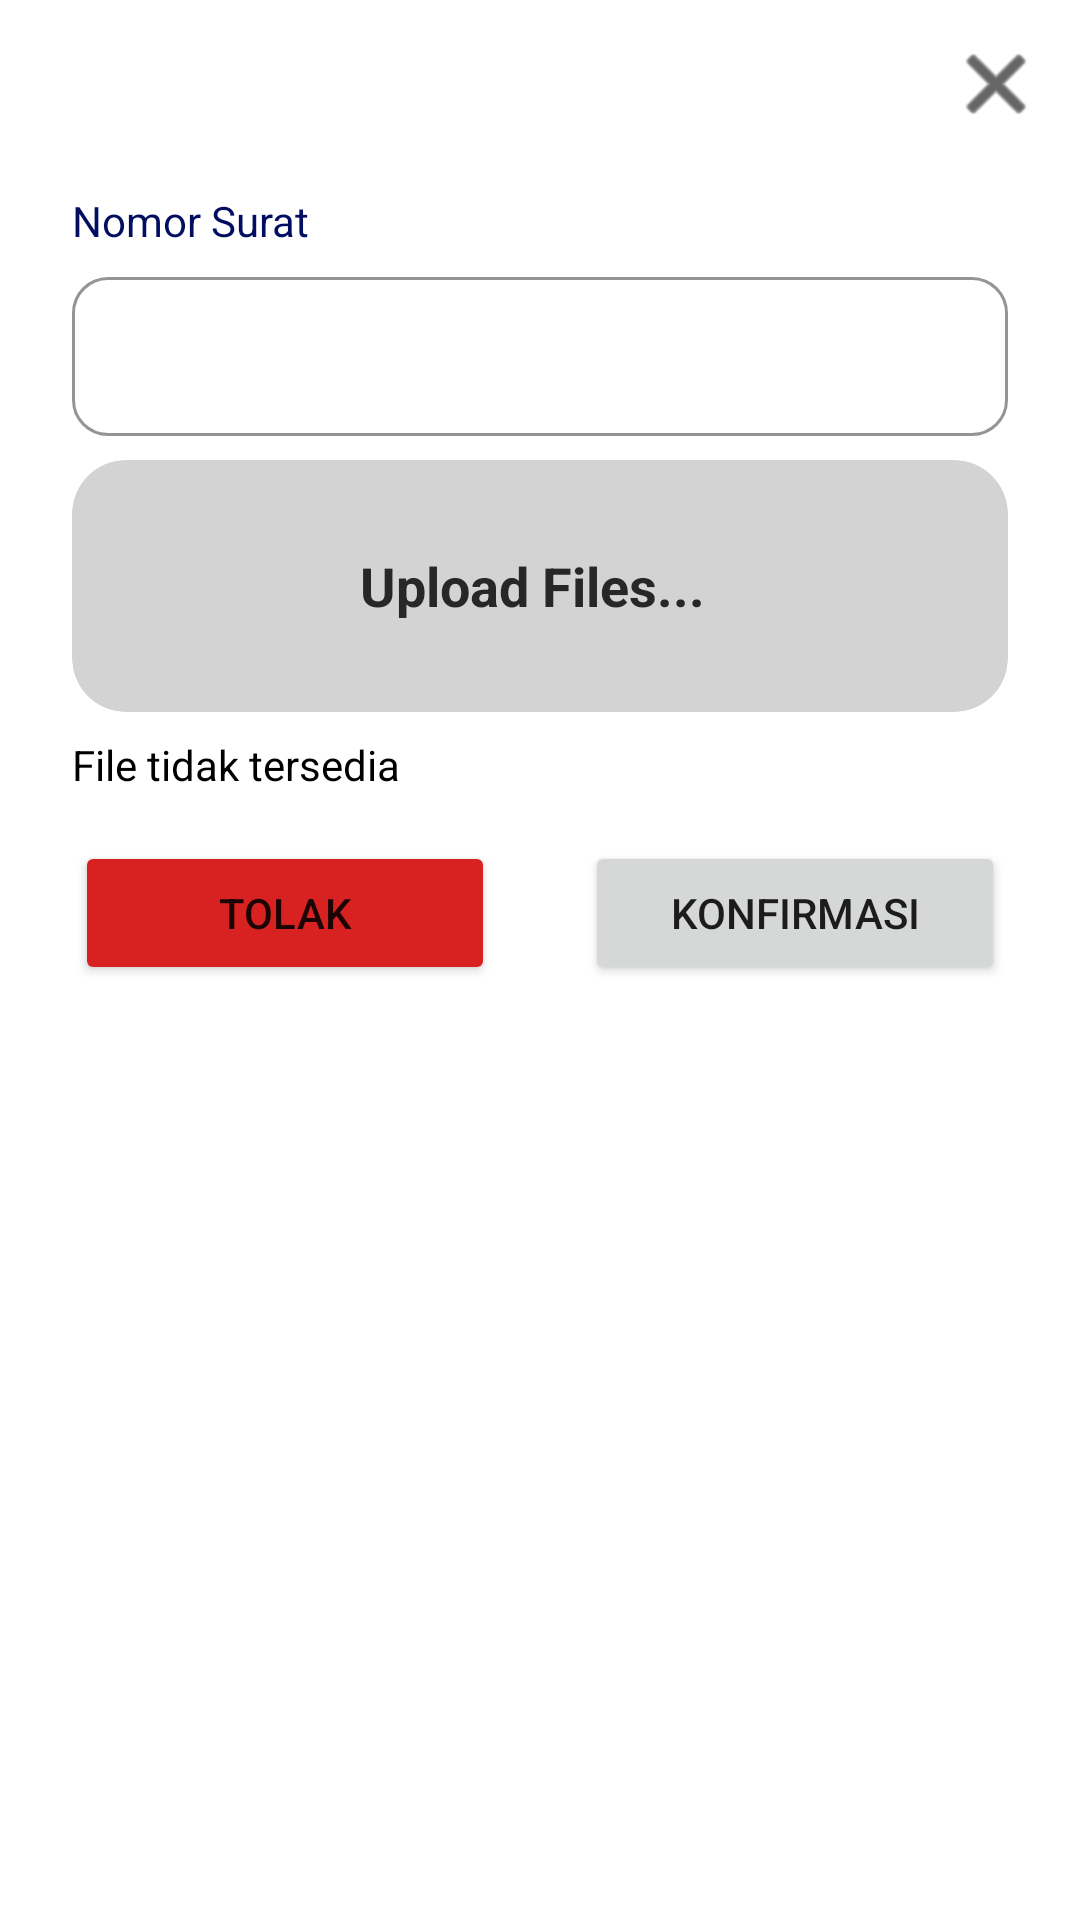

Screen size 1080 × 1920. Icon name, then its center in pixels as (x,y):
close clear cancel: (996,84)
